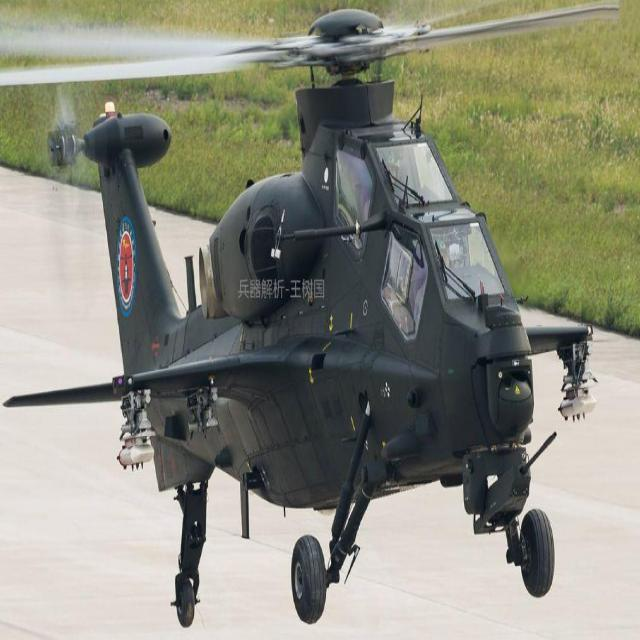MIL_HELO: (0, 7, 636, 624)
